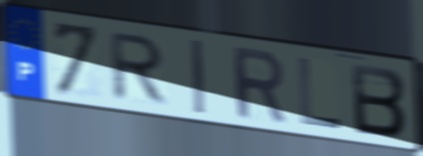7: (51, 19, 102, 100)
B: (349, 61, 409, 140)
I: (189, 37, 207, 117)
L: (295, 55, 343, 132)
R: (228, 44, 289, 127), (109, 30, 170, 108)
